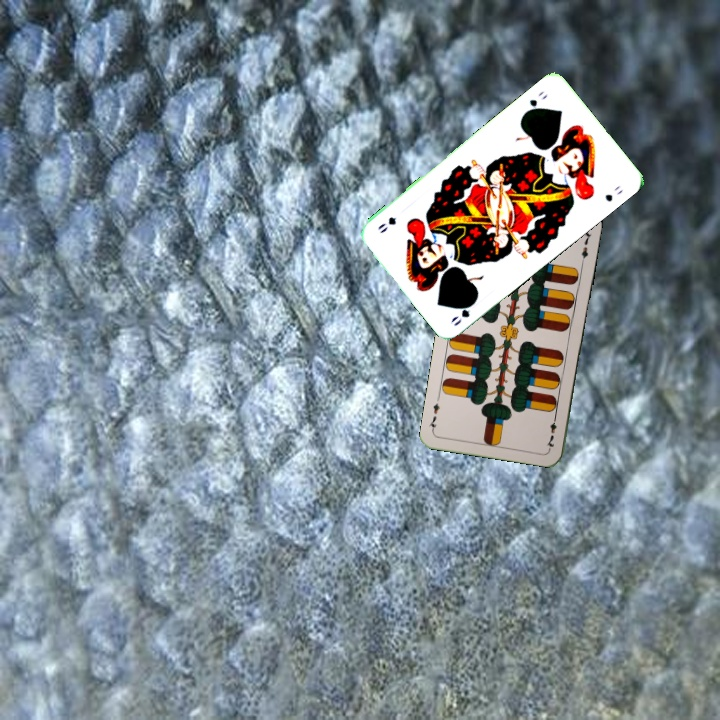E7: (543, 411, 559, 451)
GO: (447, 295, 479, 329), (520, 87, 550, 116)
